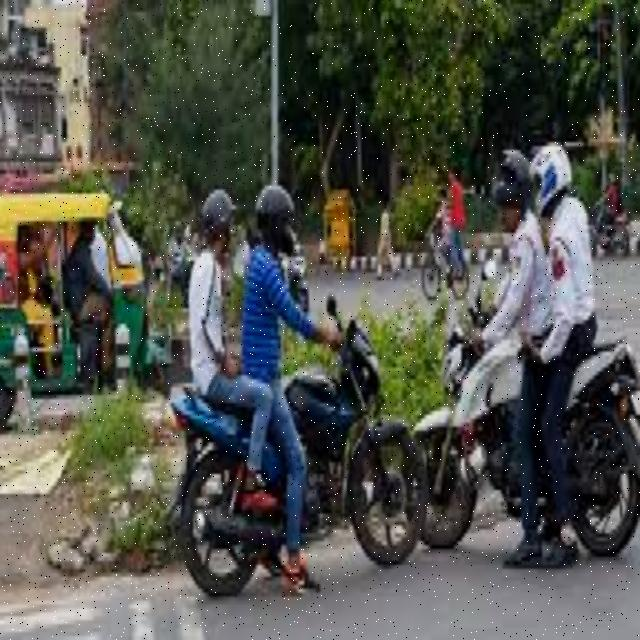not_triplets: (168, 163, 416, 570), (400, 146, 640, 561)
with-helmet: (256, 174, 304, 268), (531, 134, 573, 218), (198, 185, 238, 268), (491, 142, 531, 221)
